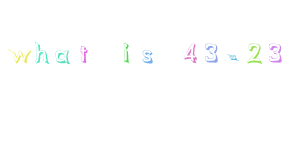-: (227, 50, 240, 69)
2: (245, 41, 263, 66)
3: (266, 41, 288, 67), (203, 39, 220, 66)
4: (181, 40, 201, 69)
a: (52, 46, 73, 66)
h: (32, 36, 50, 64)
i: (112, 37, 140, 72)
s: (138, 42, 156, 68)
t: (76, 43, 92, 68)
w: (8, 43, 32, 69)
